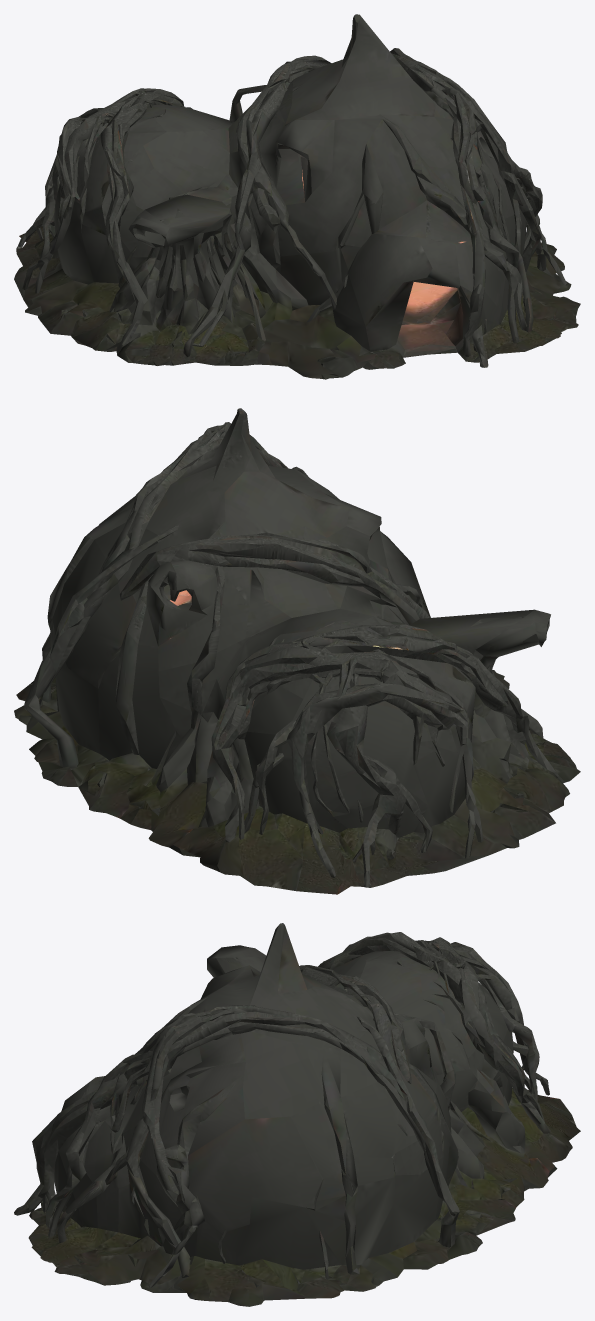
The model's file is yodahut.lod1.glb.
3 views of the same model, one above another, from view 1: azimuth 30°, elevation 25°; view 2: azimuth 150°, elevation 25°; view 3: azimuth 270°, elevation 25° (orthographic). The views are drawn at different scales.
Parts seen in each view (by area): view 1: yodahut-centred; view 2: yodahut-centred; view 3: yodahut-centred.
Boxes of the visible parts, bbox=[...] form: yodahut-centred: bbox=[14, 14, 580, 379]; yodahut-centred: bbox=[14, 408, 580, 894]; yodahut-centred: bbox=[14, 923, 580, 1306].
Size of the model in its own units: 9.39 by 5.09 by 9.09.
1 material, 1 textured.
